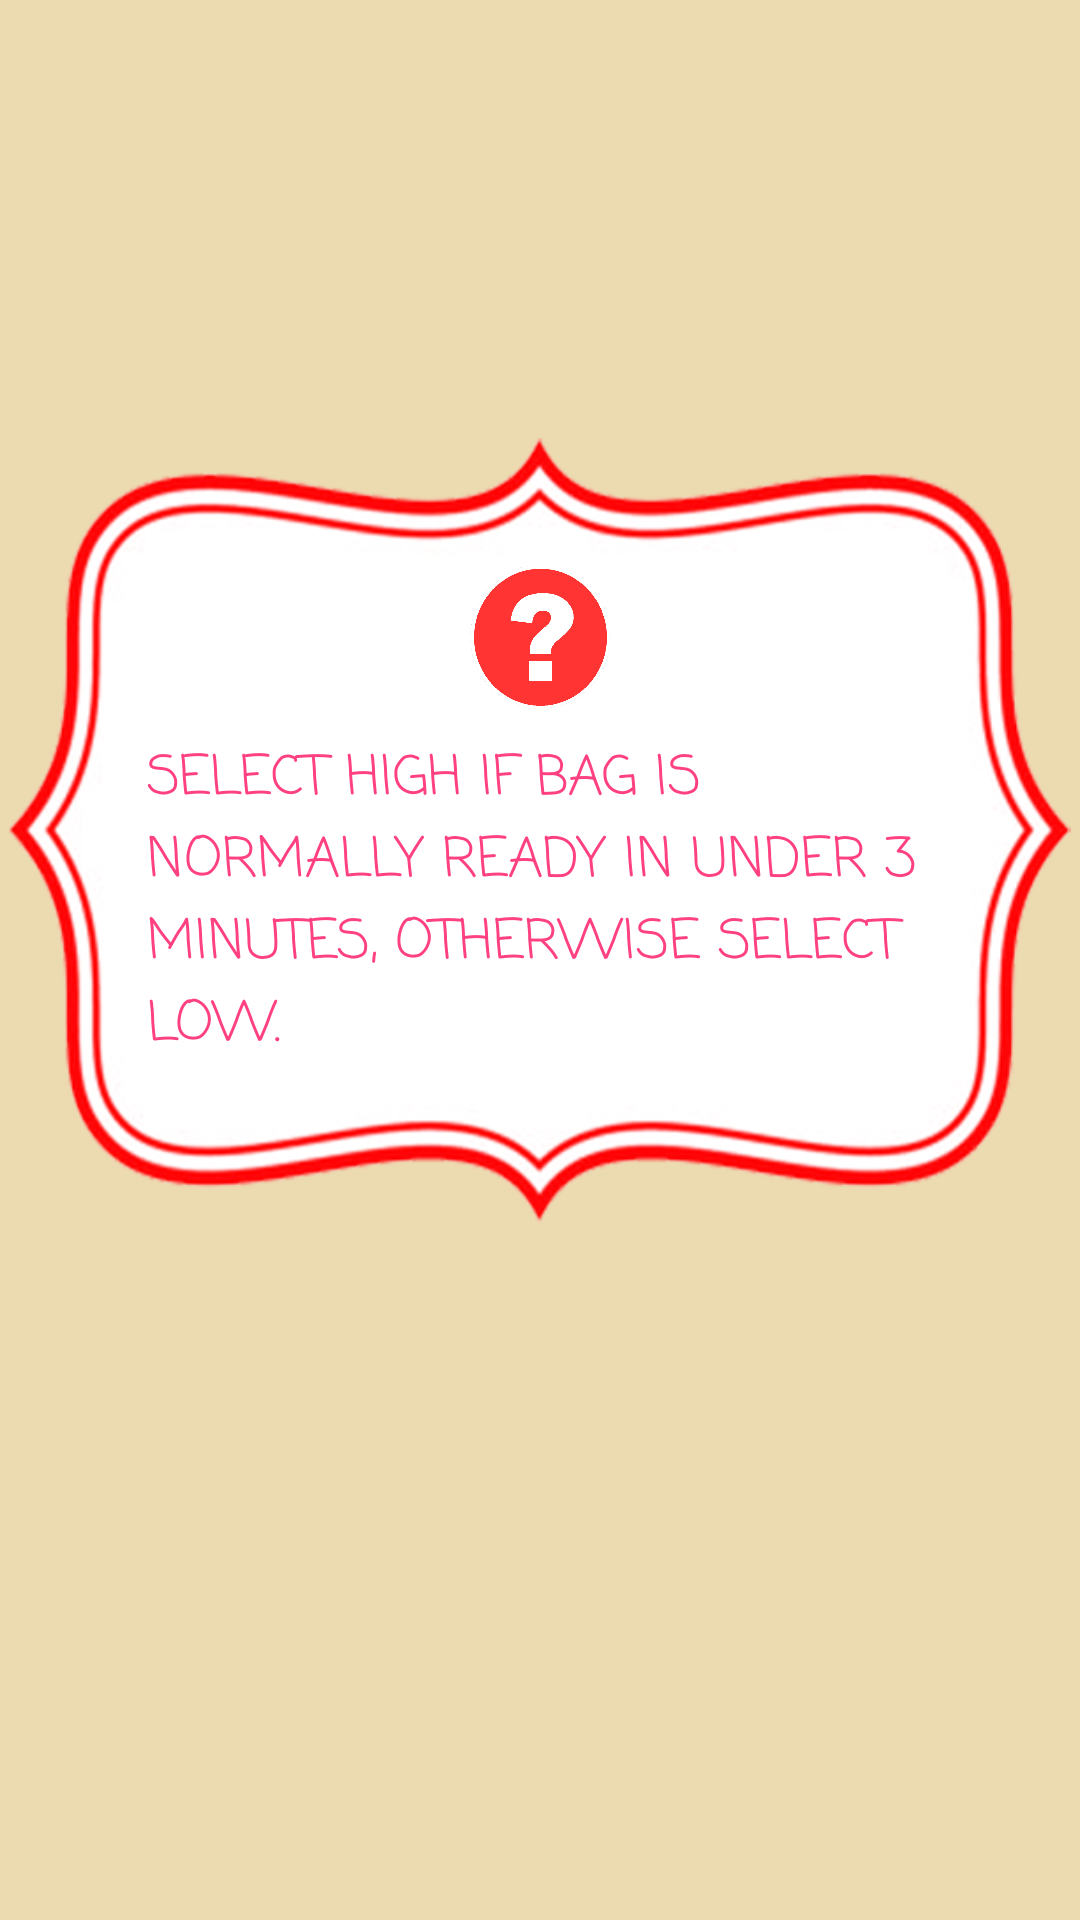

Point at icon controls on the screen. Image size 1080 x 1920, points as [x,y].
question mark edited: [538,637]
